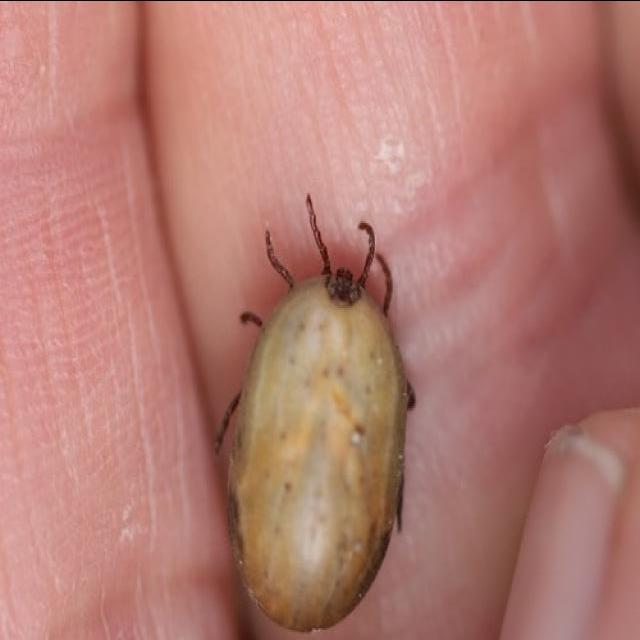Dermacentor Reticulatus-F-Fed: (215, 192, 416, 633)
